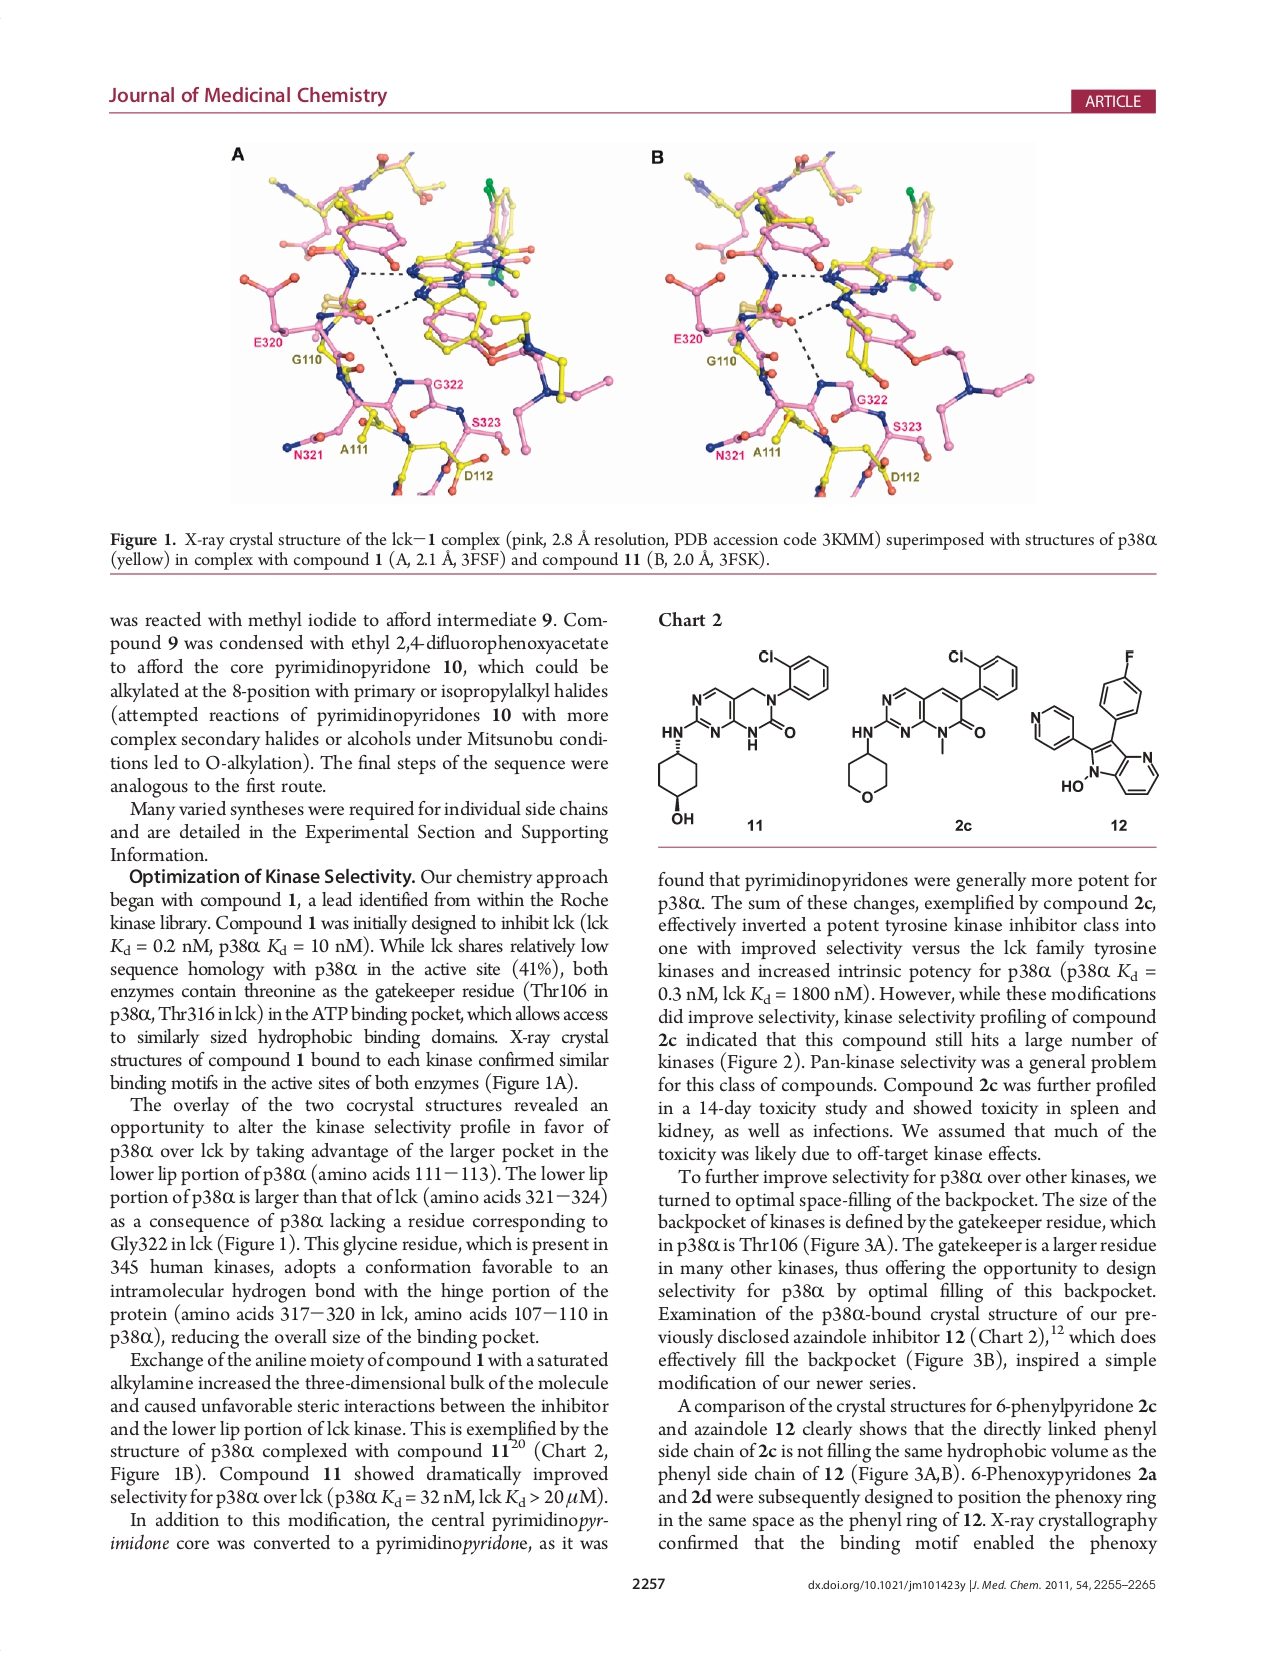exist_molecular: (650, 648, 831, 827), (846, 646, 1020, 805), (1025, 648, 1164, 799)
